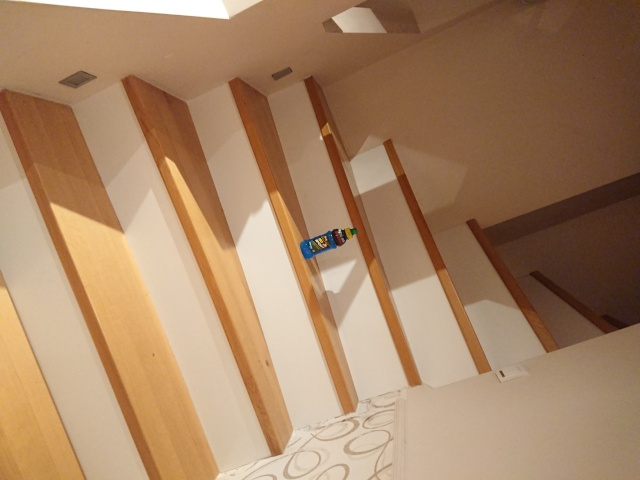Vindi Iso Sport Forest Strawberries 500mL: (298, 226, 358, 260)
